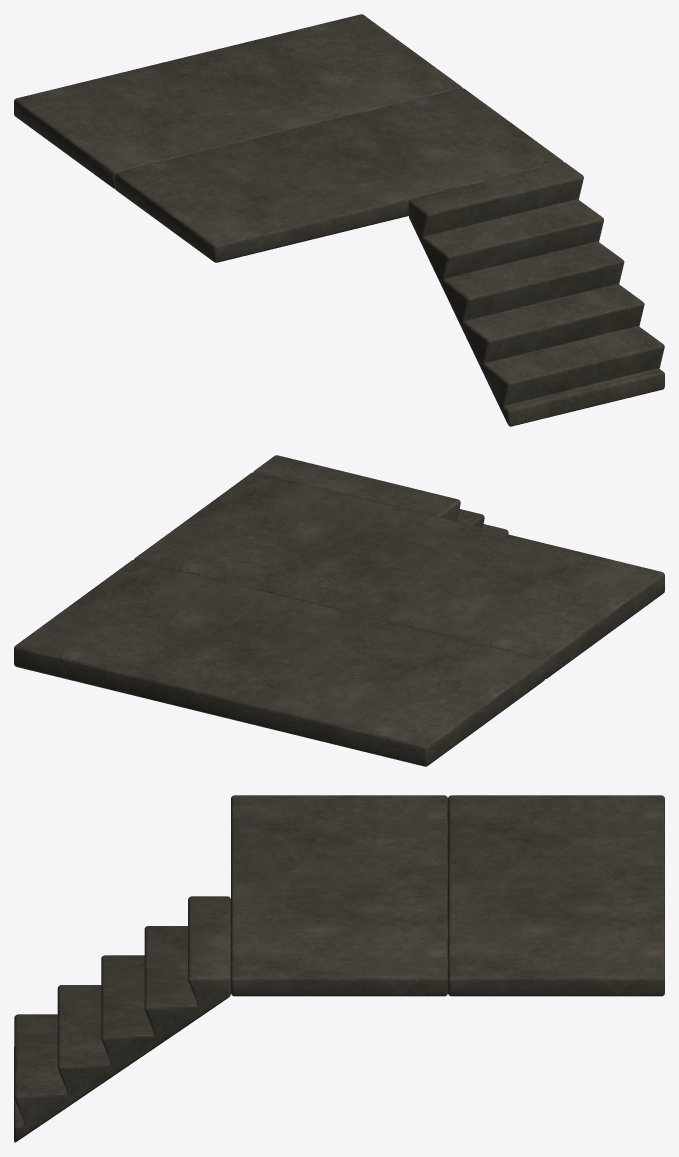
Rendered from stairs_2.obj.
3 views of the same model, one above another, from view 1: azimuth 30°, elevation 25°; view 2: azimuth 150°, elevation 25°; view 3: azimuth 270°, elevation 25° (orthographic). The views are drawn at different scales.
Visible parts, largest first — view 1: stairs_2; view 2: stairs_2; view 3: stairs_2.
Part boxes in pixels (x1,y1,x2,y2): stairs_2: (14, 14, 664, 426); stairs_2: (14, 455, 664, 766); stairs_2: (14, 795, 664, 1142).
Size of the model in its own units: 4 by 1.69 by 6.
